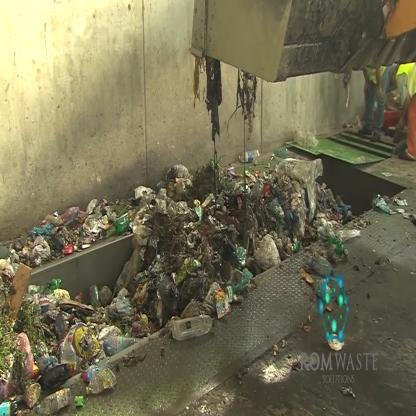Glass Bottle: (170, 313, 217, 341), (37, 386, 72, 416), (102, 335, 145, 357), (84, 370, 118, 397), (306, 251, 335, 279), (59, 336, 78, 378), (82, 361, 106, 381), (113, 216, 133, 236), (237, 147, 260, 163), (0, 398, 18, 416), (272, 145, 290, 158), (74, 290, 84, 309)
